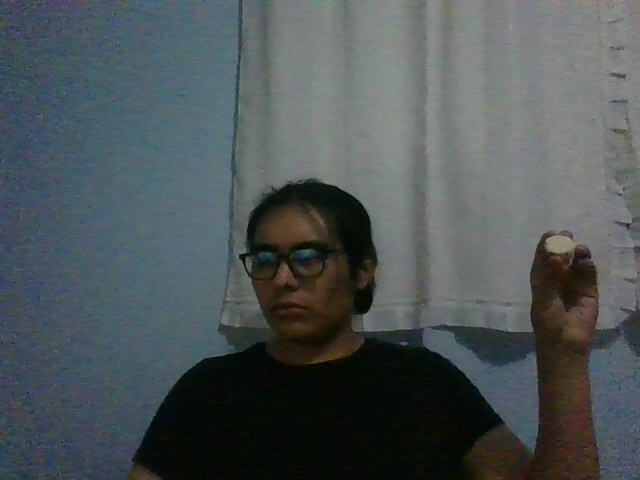goma: (544, 236, 574, 259)
